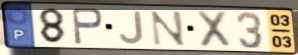3: (235, 10, 264, 51)
8: (37, 7, 68, 45)
J: (117, 10, 146, 46)
N: (149, 10, 188, 48)
P: (69, 6, 106, 46)
X: (195, 9, 233, 50)
